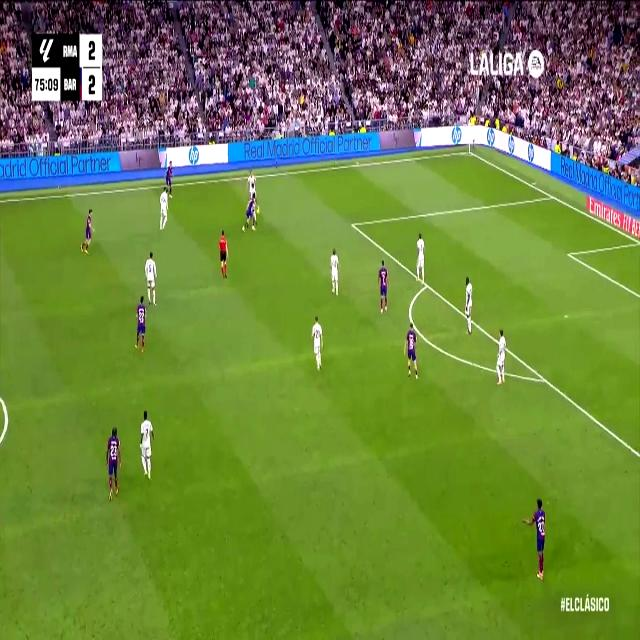bigarea_top_inner: (349, 216, 355, 232)
bigarea_top_outter: (548, 188, 556, 203)
bottom_arc_area_intersection: (539, 368, 549, 389)
corner: (464, 146, 473, 157)
smallarea_top_inner: (566, 248, 572, 260)
top_arc_area_intersection: (422, 275, 431, 293)
